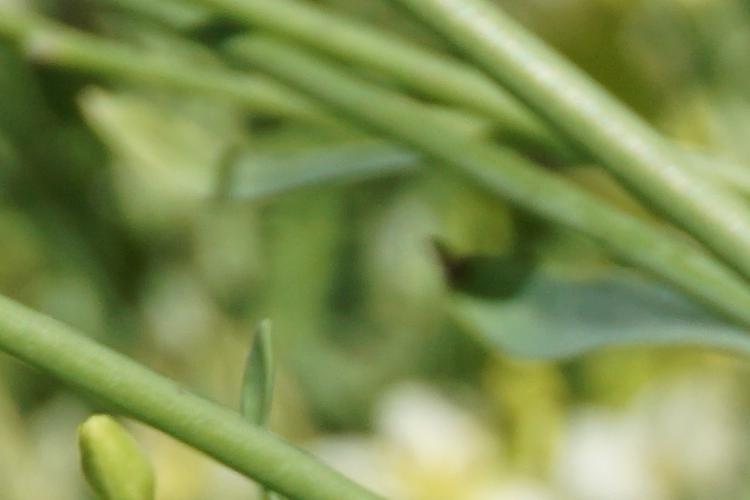bud: (73, 419, 159, 498)
